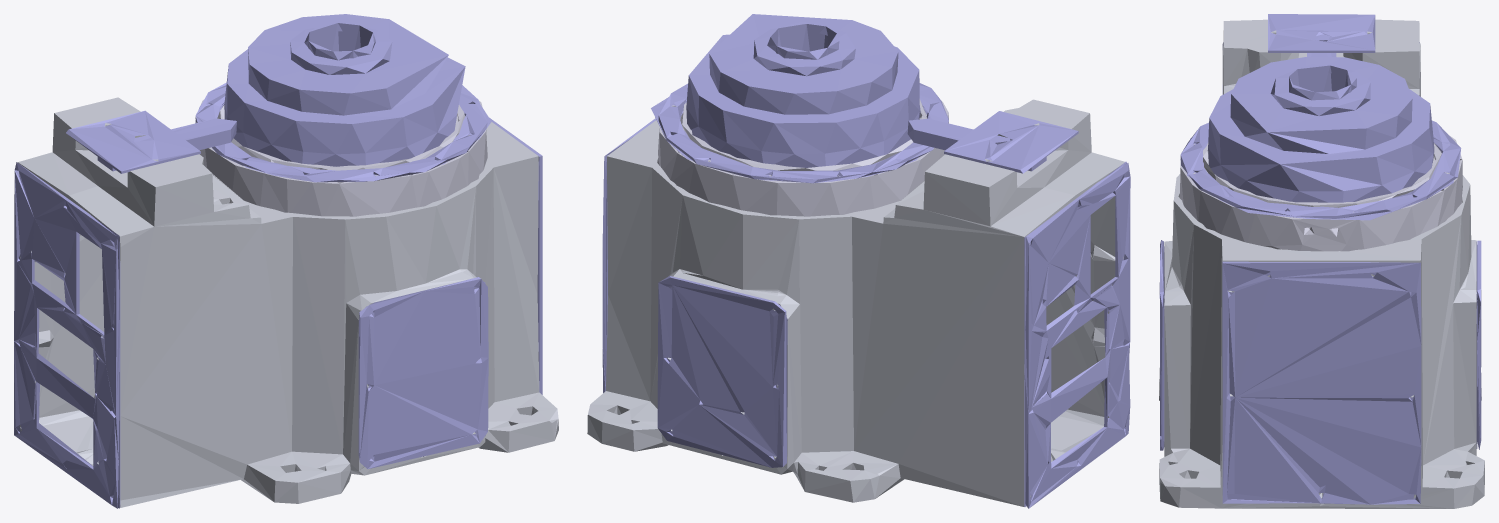
3 renders of one model, left to right at view 1: azimuth 30°, elevation 25°; view 2: azimuth 150°, elevation 25°; view 3: azimuth 270°, elevation 25°, orthographic. The views are drawn at different scales.
Parts seen in each view (by area): view 1: Base; view 2: Base; view 3: Base.
Boxes of the visible parts, bbox=[...] form: Base: bbox=[14, 14, 558, 508]; Base: bbox=[587, 14, 1130, 508]; Base: bbox=[1159, 14, 1484, 508].
Size of the model in its own units: 0.4079 by 0.2795 by 0.3421.
